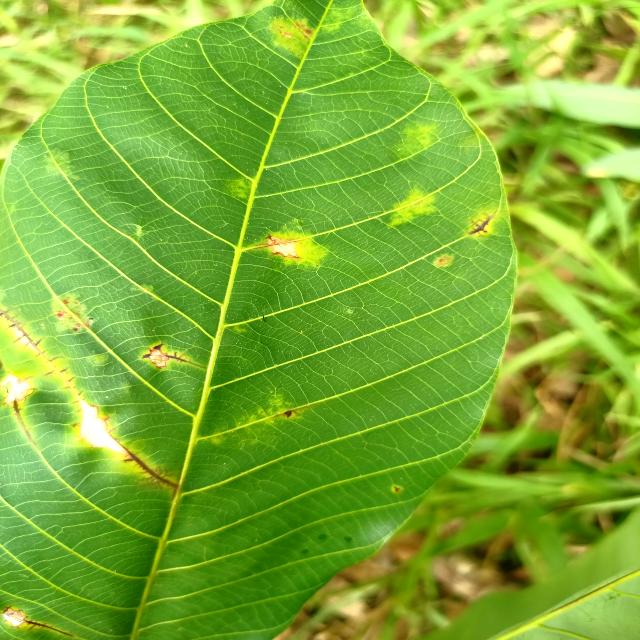Corynespora: (0, 309, 179, 498), (0, 310, 85, 404), (122, 447, 178, 497), (142, 343, 207, 372), (12, 399, 34, 443), (465, 211, 497, 236), (26, 620, 72, 637)
Leaf-Blight: (78, 400, 126, 456), (0, 373, 34, 405), (266, 238, 298, 258), (2, 608, 26, 626)
